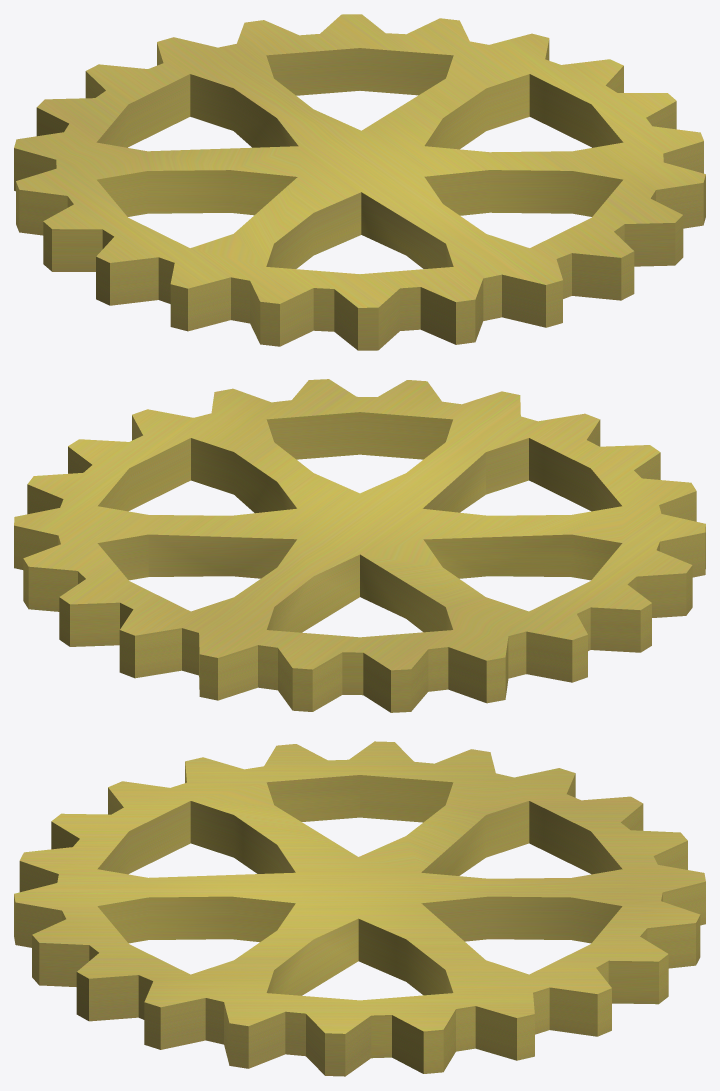
File: Cog6Spoke022.fbx
3 renders of one model, top to bottom at view 1: azimuth 30°, elevation 25°; view 2: azimuth 150°, elevation 25°; view 3: azimuth 270°, elevation 25°, orthographic.
Visible parts, largest first — view 1: Cog6Spoke022; view 2: Cog6Spoke022; view 3: Cog6Spoke022.
Part boxes in pixels (<box>): Cog6Spoke022: <box>14,14,705,350</box>; Cog6Spoke022: <box>14,379,705,712</box>; Cog6Spoke022: <box>14,741,705,1076</box>.
Bounding box in the file's own units: 215 × 14.59 × 215.
